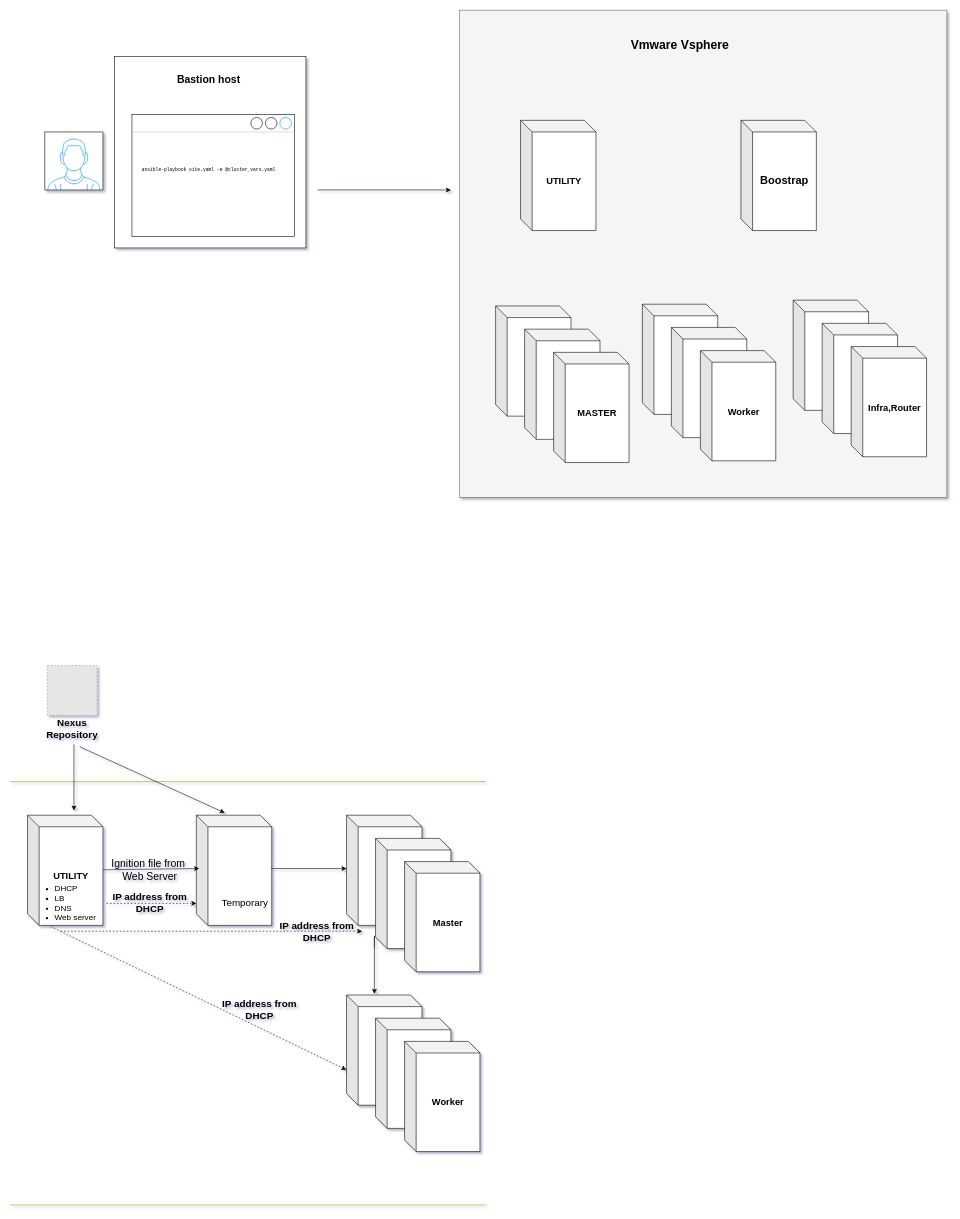
Image size: 960x1219. Some labels were removed from this diagram. Grey dashed boxes stand in for pictures. The box of each missing label's shape, as (x1, y1, x2, y2) in pixels:
BOOTSTRAP: (196, 815, 272, 925)
TERMINAL: (131, 114, 294, 236)
